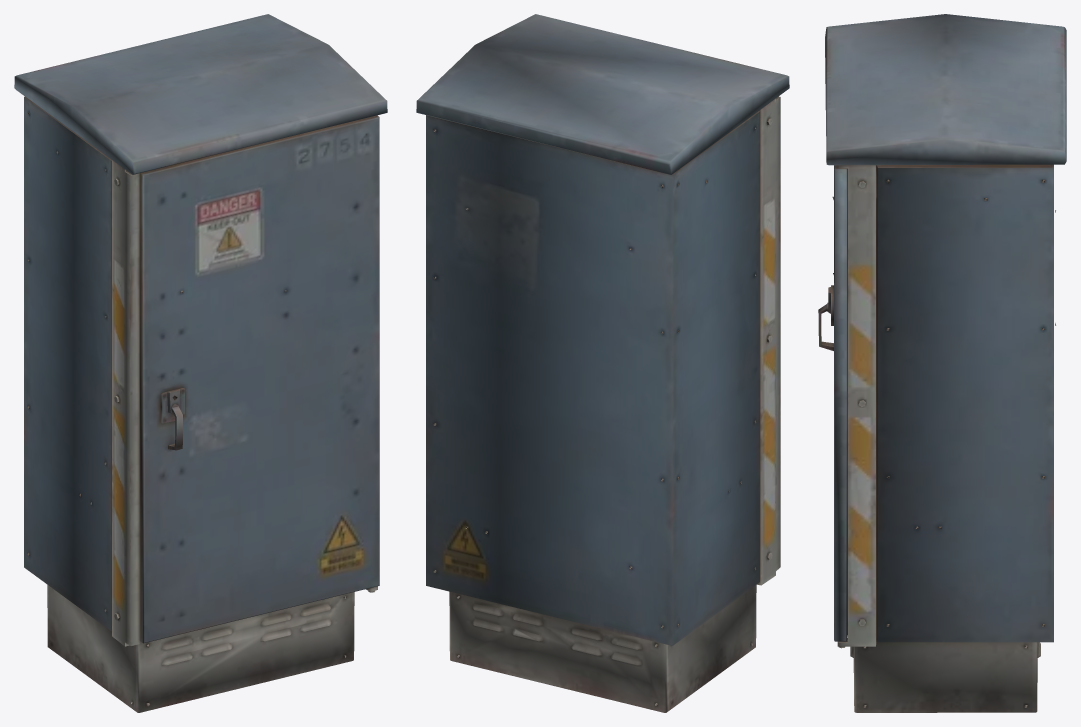
Rendered from utility-box-01.glb.
The picture shows the model from 3 angles, left to right: view 1: azimuth 30°, elevation 25°; view 2: azimuth 150°, elevation 25°; view 3: azimuth 270°, elevation 25°; orthographic projection.
Parts seen in each view (by area): view 1: utility_box_01_box; view 2: utility_box_01_box; view 3: utility_box_01_box.
Part boxes in pixels (x1=…): utility_box_01_box: x1=14, y1=14, x2=387, y2=712; utility_box_01_box: x1=416, y1=14, x2=789, y2=712; utility_box_01_box: x1=818, y1=14, x2=1066, y2=712.
Size of the model in its own units: 0.5165 by 1.12 by 0.4312.
1 material, 1 textured.
